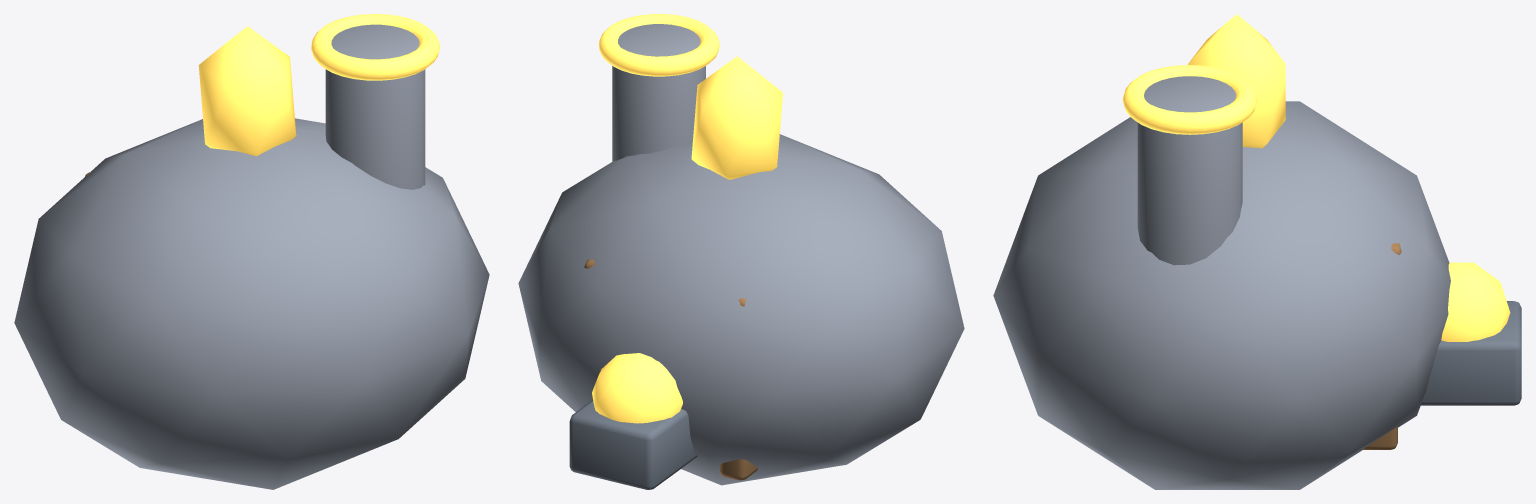
File: bldg_gold_mine.glb
3 views of the same model, side by side, from view 1: azimuth 30°, elevation 25°; view 2: azimuth 150°, elevation 25°; view 3: azimuth 270°, elevation 25° (orthographic). The views are drawn at different scales.
Parts seen in each view (by area): view 1: StaticBody, Anim_Floater; view 2: StaticBody, Anim_Floater; view 3: StaticBody, Anim_Floater.
Part boxes in pixels (x1,y1,x2,y2): StaticBody: (14, 14, 489, 489); Anim_Floater: (198, 26, 296, 156); StaticBody: (518, 14, 964, 489); Anim_Floater: (691, 56, 782, 179); StaticBody: (993, 65, 1521, 489); Anim_Floater: (1188, 14, 1285, 148).
Size of the model in its own units: 2.62 by 2.68 by 2.82.
